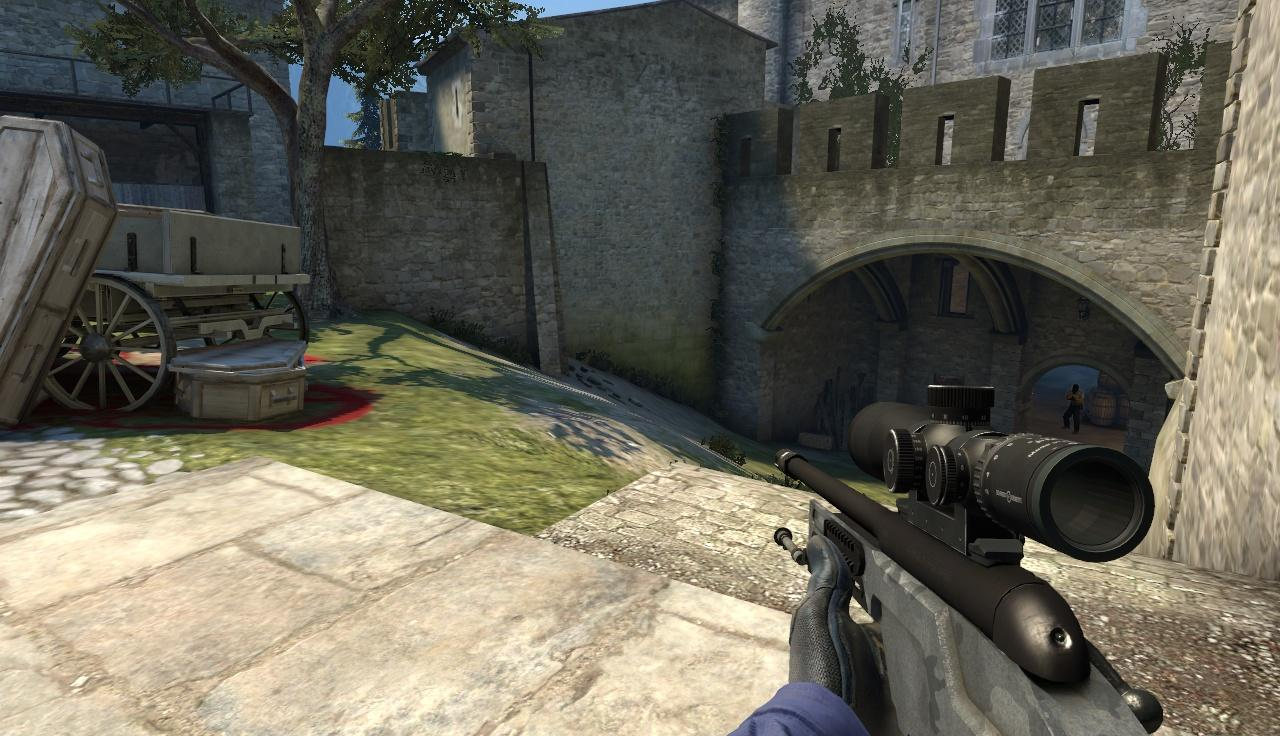sniper: (768, 381, 1181, 736)
tt: (1064, 384, 1084, 435)
tthead: (1072, 384, 1079, 392)
